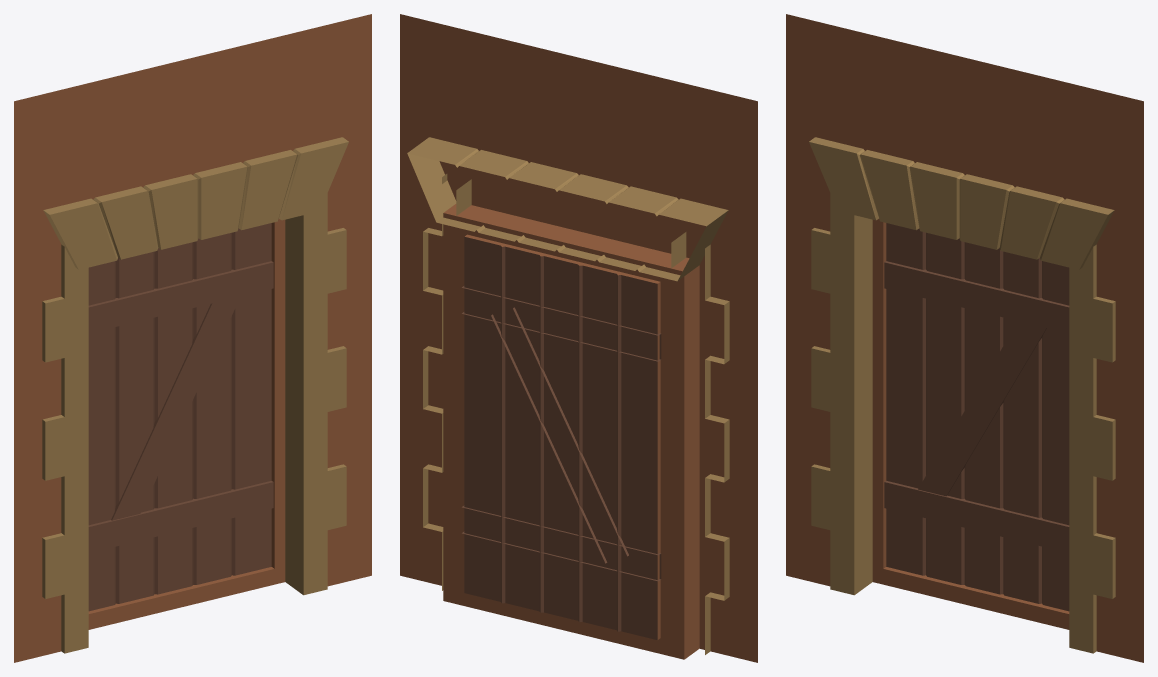
File: DoorB.fbx
3 renders of one model, left to right at view 1: azimuth 30°, elevation 25°; view 2: azimuth 150°, elevation 25°; view 3: azimuth 330°, elevation 25°, orthographic.
Visible parts, largest first — view 1: DoorB; view 2: DoorB; view 3: DoorB.
Boxes of the visible parts, x1,y1,x2,y2 form: DoorB: (14,14,371,662); DoorB: (400,14,757,662); DoorB: (786,14,1143,662).
Size of the model in its own units: 200 by 300 by 27.6.
